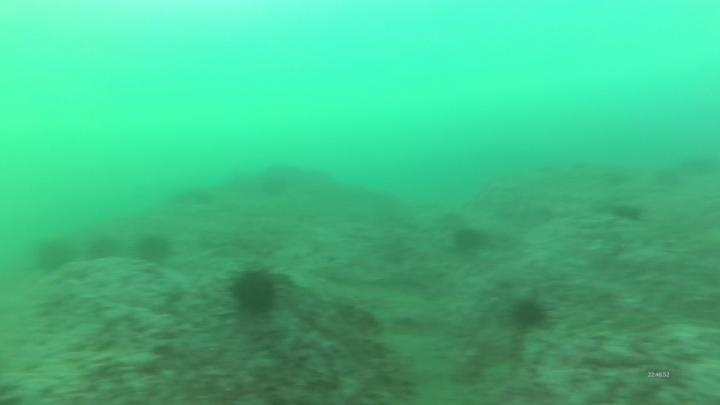echinus: (228, 264, 282, 318), (31, 234, 77, 276), (507, 294, 552, 332), (133, 230, 175, 266), (449, 223, 489, 256), (85, 232, 122, 264), (608, 199, 645, 224)
